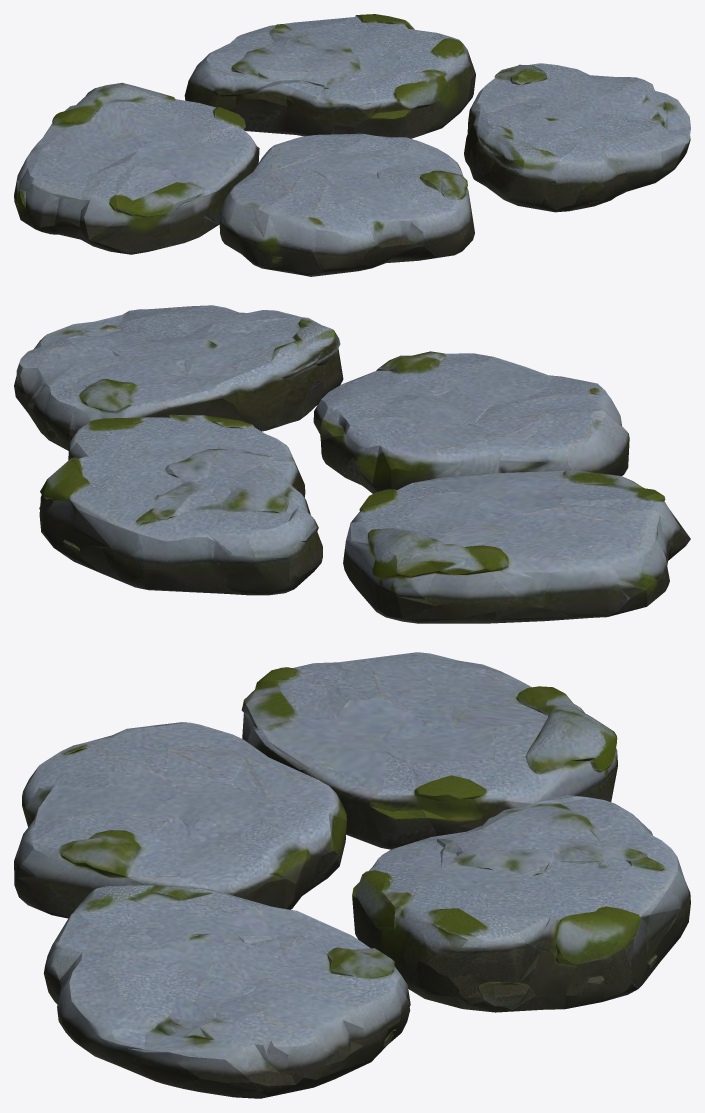
File: mossy_step_stones.glb
3 renders of one model, top to bottom at view 1: azimuth 30°, elevation 25°; view 2: azimuth 150°, elevation 25°; view 3: azimuth 270°, elevation 25°, orthographic. The views are drawn at different scales.
Size of the model in its own units: 2.22 by 0.2422 by 1.57.
1 material, 1 textured.
